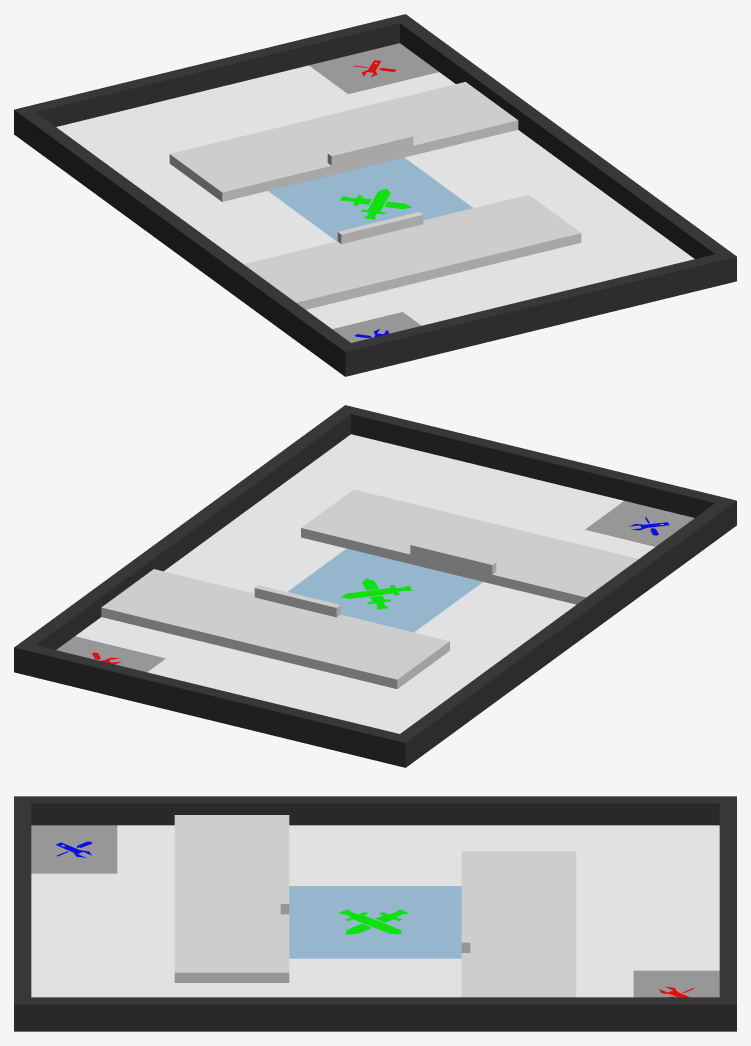
The model's file is GROUND_RMUL.glb.
The picture shows the model from 3 angles, top to bottom: view 1: azimuth 30°, elevation 25°; view 2: azimuth 150°, elevation 25°; view 3: azimuth 270°, elevation 25°; orthographic projection. The views are drawn at different scales.
Parts seen in each view (by area): view 1: SOLID, SHELL; view 2: SOLID, SHELL; view 3: SOLID, SHELL.
Boxes of the visible parts, x1,y1,x2,y2 form: SOLID: [14, 24, 736, 376]; SHELL: [14, 14, 736, 352]; SOLID: [14, 415, 736, 767]; SHELL: [14, 405, 736, 743]; SOLID: [14, 804, 736, 1031]; SHELL: [14, 796, 736, 1005].
Bounding box in the file's own units: 8.6 × 0.52 × 12.6.
